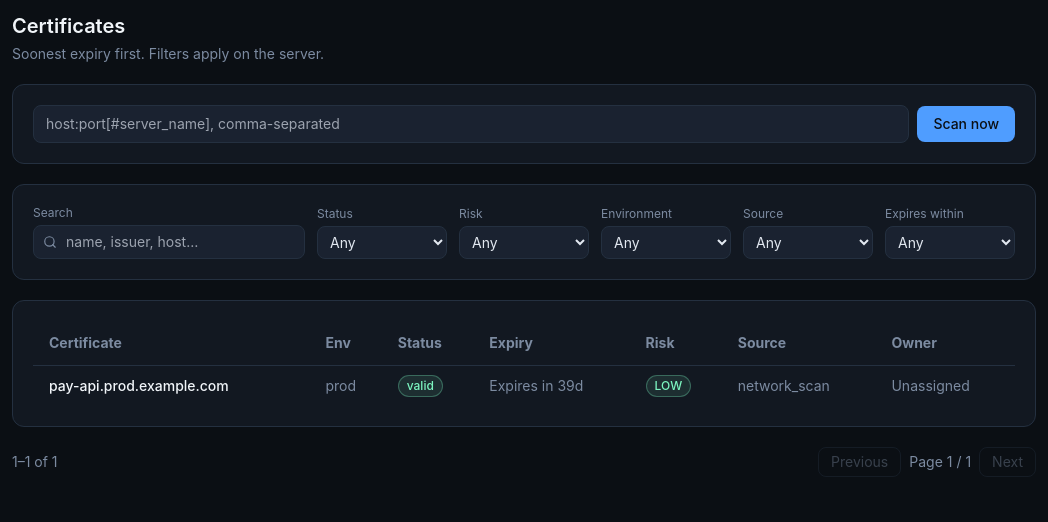
Test: Certificates › shows the server error when a scan fails
Expected: the link "pay-api.prod.example.com" is shown, left=49, top=377, right=229, bottom=394
Step 1. Type "169.254.169.254:80" into the field named "Scan target" → (471, 124), box left=33, top=105, right=909, bottom=143
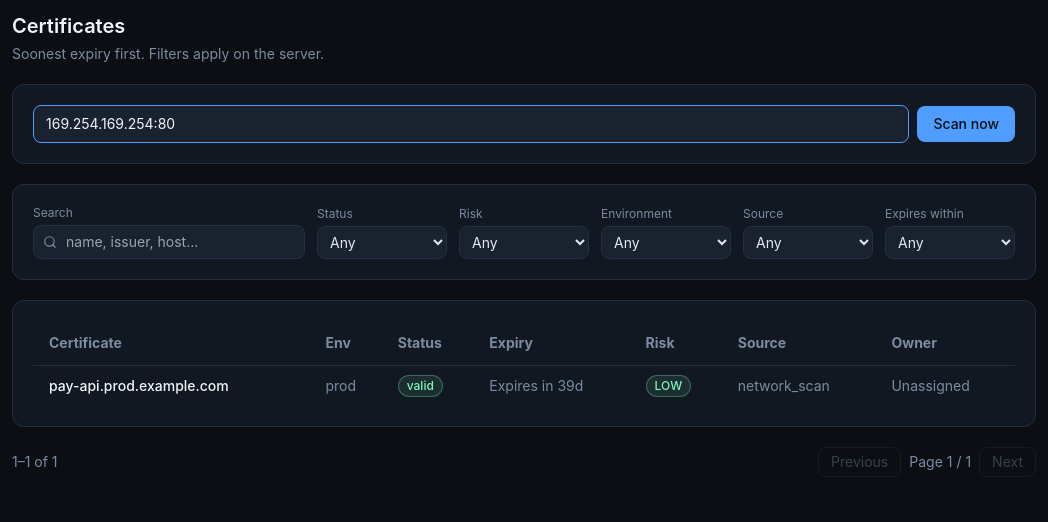
Step 2. Click the button "Scan now" → (966, 124), box left=917, top=106, right=1015, bottom=142
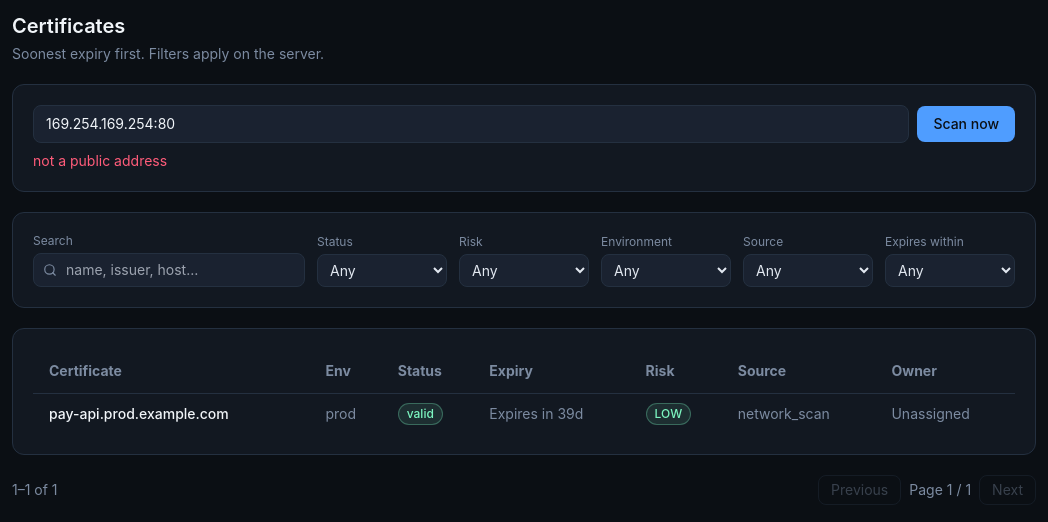
Expected: the message reads "not a public address", left=33, top=152, right=167, bottom=169
